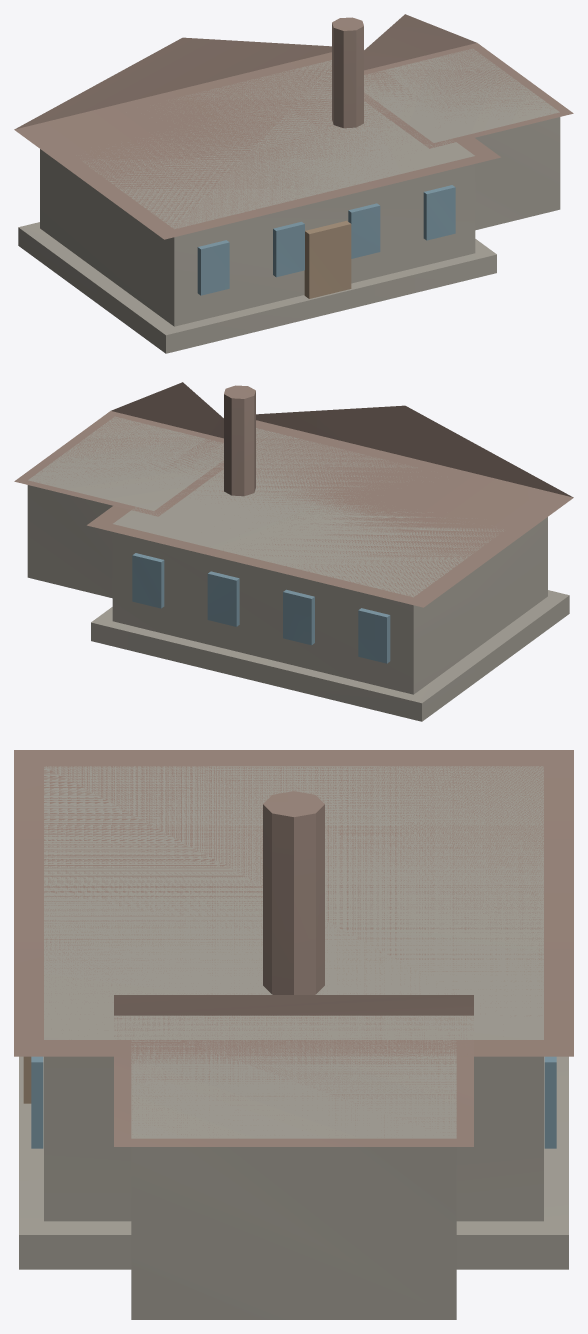
Rendered from cottage-06.glb.
3 views of the same model, one above another, from view 1: azimuth 30°, elevation 25°; view 2: azimuth 150°, elevation 25°; view 3: azimuth 270°, elevation 25° (orthographic). The views are drawn at different scales.
Parts seen in each view (by area): view 1: world; view 2: world; view 3: world.
Boxes of the visible parts, <box> form: world: <box>14,14,573,353</box>; world: <box>14,382,573,721</box>; world: <box>14,750,573,1319</box>.
Size of the model in its own units: 1.97 by 0.92 by 1.18.
